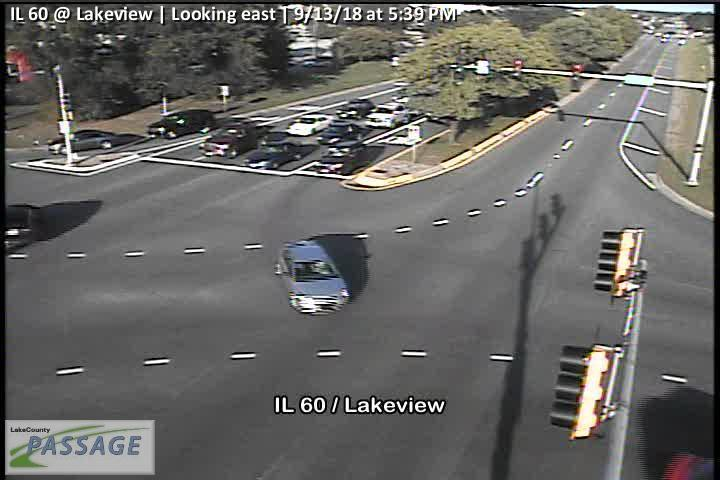SUV: (145, 110, 216, 141), (317, 142, 371, 175), (365, 103, 411, 129)
Sedan: (277, 239, 349, 316), (198, 126, 257, 159), (246, 132, 298, 169), (48, 130, 119, 155), (287, 114, 333, 136), (317, 122, 360, 145), (334, 99, 376, 121)
